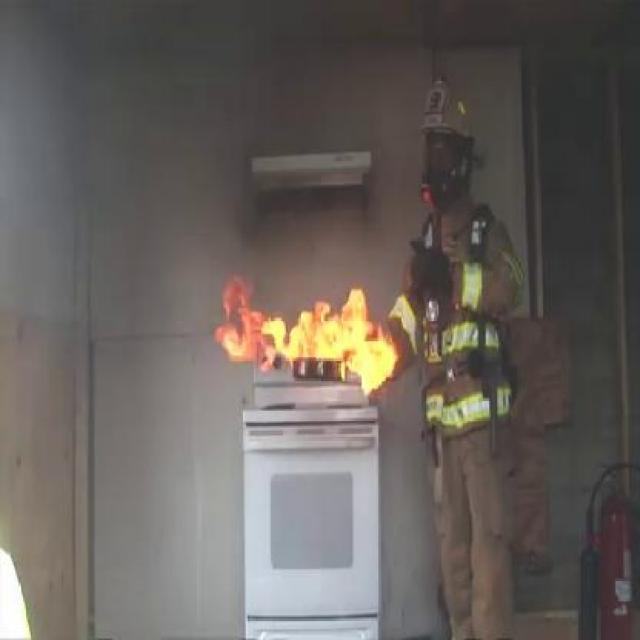fire: (215, 272, 396, 392)
